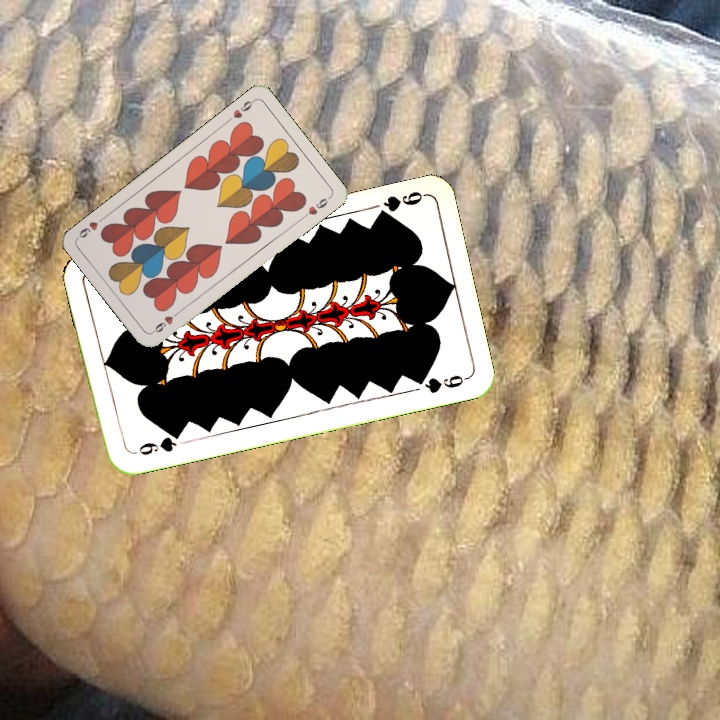G9: (372, 187, 428, 222), (127, 428, 184, 458)
H9: (223, 96, 258, 125), (148, 307, 183, 336)
